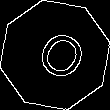O_SW: (23, 22, 87, 88)
